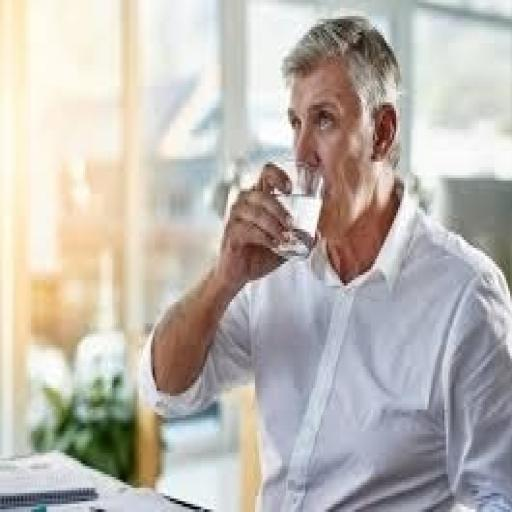drinking: (259, 156, 323, 262)
